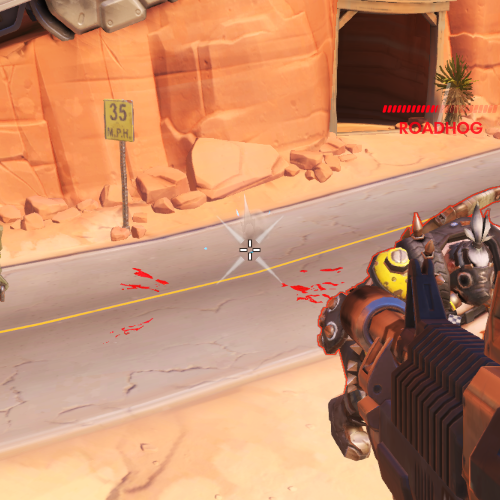hpbar: (381, 104, 498, 113)
